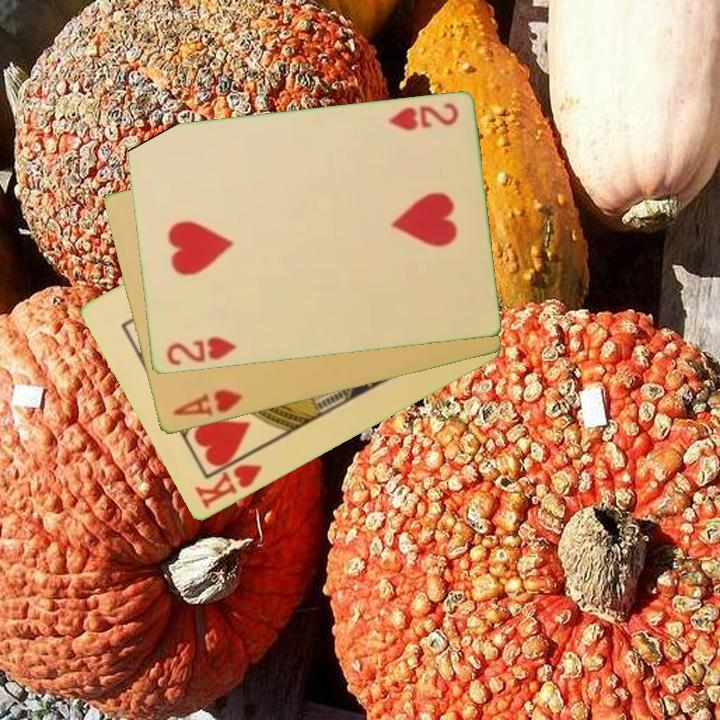2h: (162, 333, 239, 369), (385, 100, 461, 134)
Ah: (169, 386, 246, 420)
Kh: (191, 447, 265, 512)
